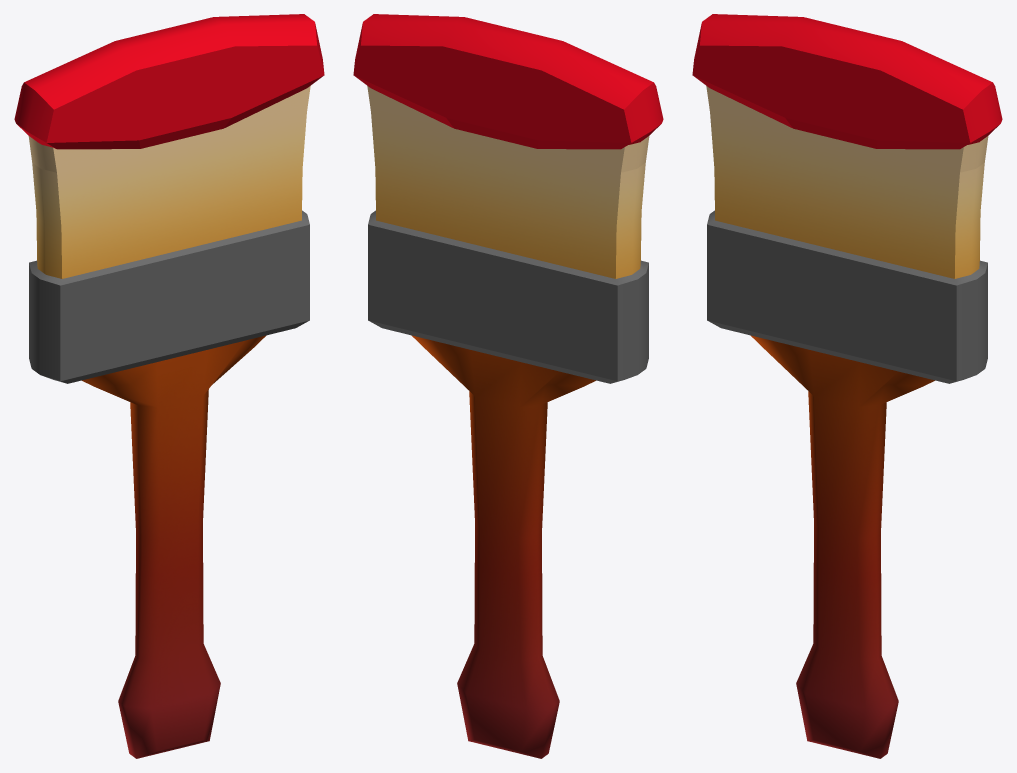
File: brush.fbx
The picture shows the model from 3 angles, left to right: view 1: azimuth 30°, elevation 25°; view 2: azimuth 150°, elevation 25°; view 3: azimuth 330°, elevation 25°; orthographic projection.
Visible parts, largest first — view 1: brush; view 2: brush; view 3: brush.
Boxes of the visible parts, x1=… form: brush: x1=14, y1=14, x2=324, y2=758; brush: x1=353, y1=14, x2=663, y2=758; brush: x1=692, y1=14, x2=1002, y2=758.
Size of the model in its own units: 2.02 by 4.66 by 0.3805.
